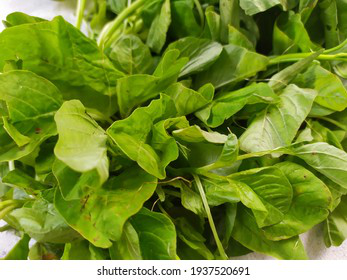Bayam: (7, 6, 337, 253)
